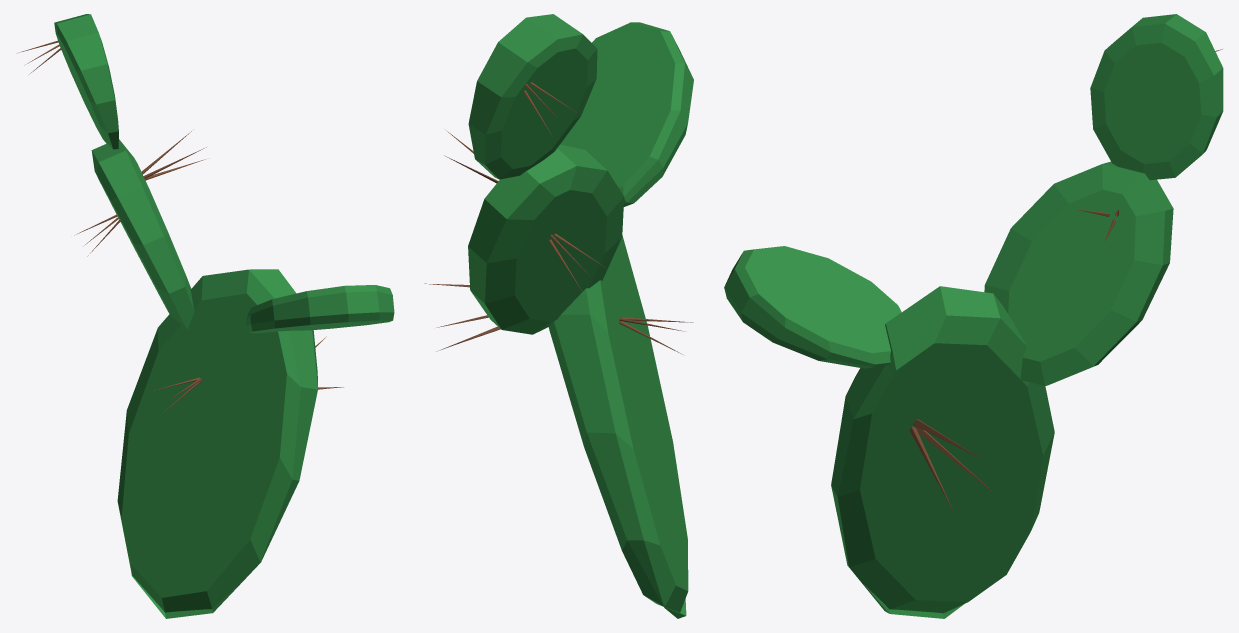
The model's file is cactus3.fbx.
3 renders of one model, left to right at view 1: azimuth 30°, elevation 25°; view 2: azimuth 150°, elevation 25°; view 3: azimuth 270°, elevation 25°, orthographic. The views are drawn at different scales.
Parts seen in each view (by area): view 1: small cactus 1; view 2: small cactus 1; view 3: small cactus 1.
Boxes of the visible parts, x1=… form: small cactus 1: x1=17, y1=14, x2=394, y2=618; small cactus 1: x1=424, y1=14, x2=693, y2=618; small cactus 1: x1=724, y1=14, x2=1223, y2=618.
Size of the model in its own units: 101 by 233 by 174.
